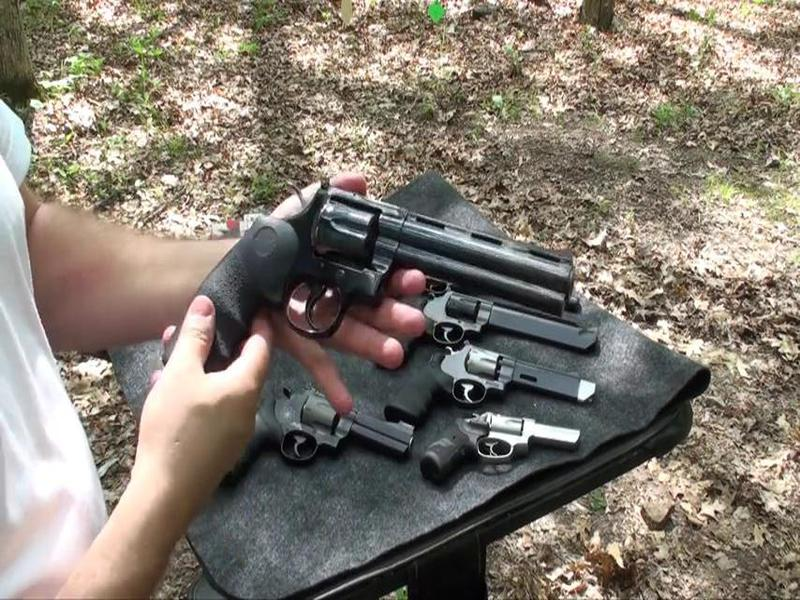Revolver: (203, 167, 597, 380)
